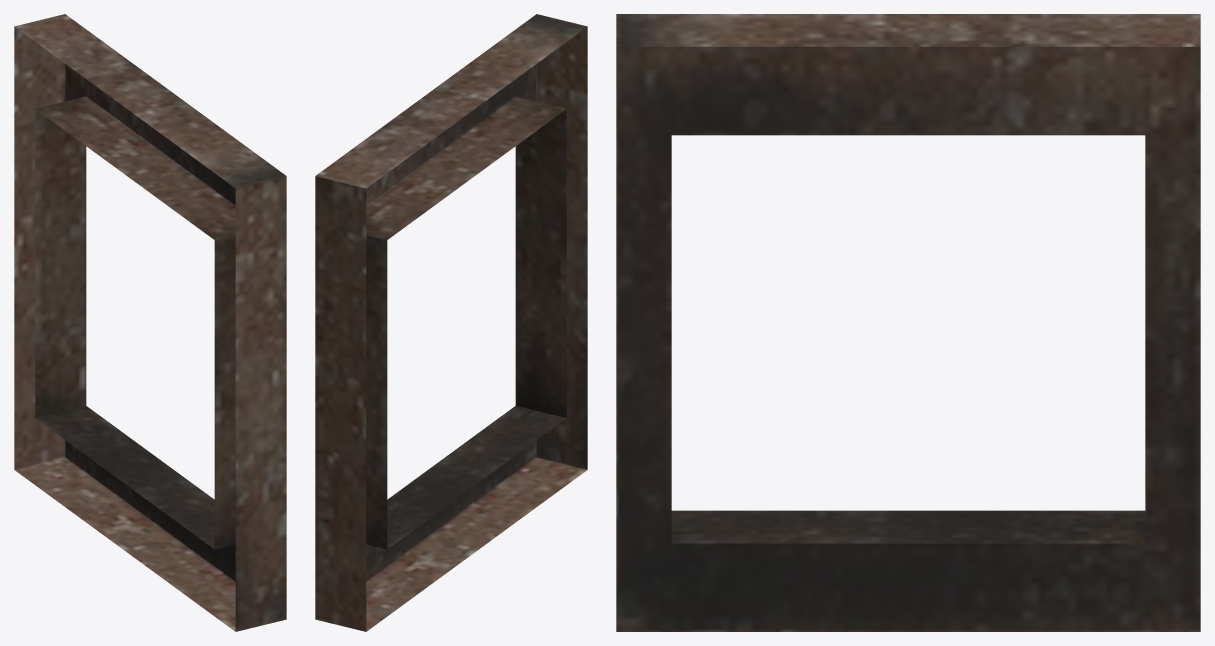
Rendered from DoubleWindow_Trim.FBX.
3 renders of one model, left to right at view 1: azimuth 30°, elevation 25°; view 2: azimuth 150°, elevation 25°; view 3: azimuth 270°, elevation 25°, orthographic. The views are drawn at different scales.
Parts seen in each view (by area): view 1: DoubleWindow_Trim; view 2: DoubleWindow_Trim; view 3: DoubleWindow_Trim.
Boxes of the visible parts, x1,y1,x2,y2 form: DoubleWindow_Trim: (14, 14, 286, 631); DoubleWindow_Trim: (315, 14, 587, 631); DoubleWindow_Trim: (616, 14, 1200, 631).
Bounding box in the file's own units: 35 × 290 × 263.
